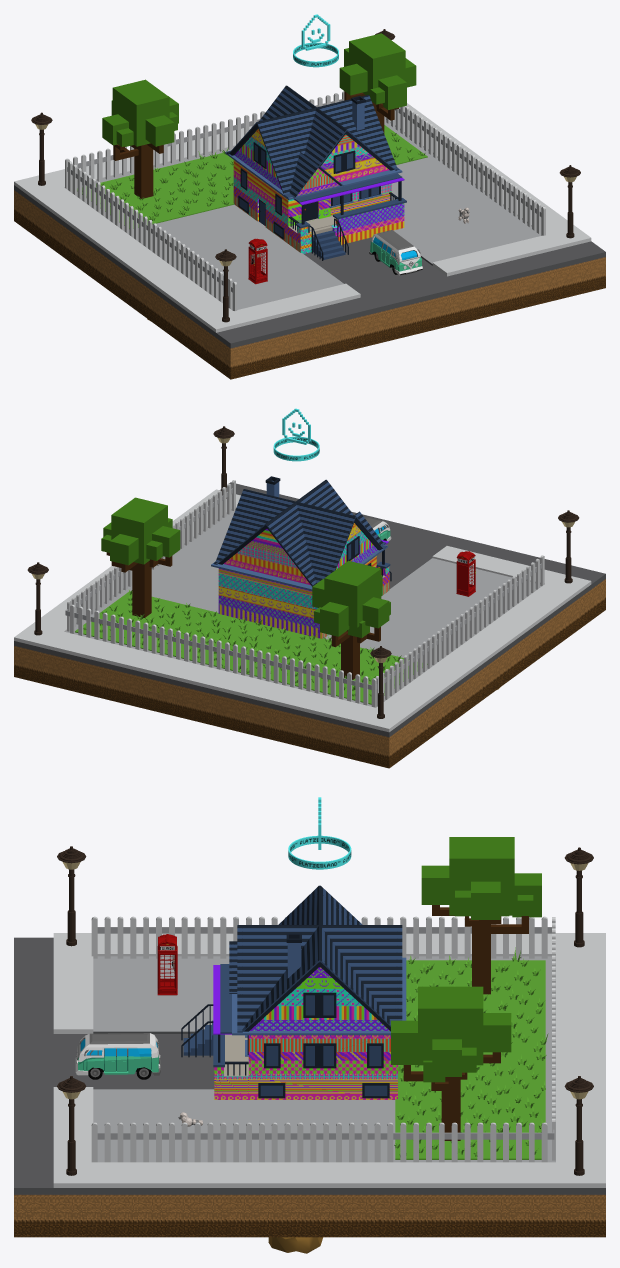
3 renders of one model, top to bottom at view 1: azimuth 30°, elevation 25°; view 2: azimuth 150°, elevation 25°; view 3: azimuth 270°, elevation 25°, orthographic. The views are drawn at different scales.
Parts seen in each view (by area): view 1: Cube.004, Cube.676, VEHICLES_VAN, TYPE_PREMIUM, OBJRANDOM_PHONEBOOTH; view 2: Cube.004, Cube.676, TYPE_PREMIUM, OBJRANDOM_PHONEBOOTH; view 3: Cube.004, Cube.676, VEHICLES_VAN, TYPE_PREMIUM, OBJRANDOM_PHONEBOOTH, UNDERGROUND_T_REX_BONES.
Boxes of the visible parts, box(x1,y1,x2,y2) form: Cube.004: box(14, 29, 605, 379); Cube.676: box(225, 85, 406, 260); VEHICLES_VAN: box(369, 230, 422, 275); TYPE_PREMIUM: box(293, 14, 338, 67); OBJRANDOM_PHONEBOOTH: box(248, 238, 267, 284); Cube.004: box(14, 426, 605, 768); Cube.676: box(211, 476, 391, 638); TYPE_PREMIUM: box(273, 408, 319, 461); OBJRANDOM_PHONEBOOTH: box(456, 551, 475, 596); Cube.004: box(14, 837, 605, 1237); Cube.676: box(181, 885, 406, 1099); VEHICLES_VAN: box(75, 1033, 160, 1079); TYPE_PREMIUM: box(288, 797, 351, 869); OBJRANDOM_PHONEBOOTH: box(157, 934, 177, 995); UNDERGROUND_T_REX_BONES: box(268, 1237, 322, 1253).
Size of the model in its own units: 4000 by 2580 by 4000.
Materials: 45 (8 with a texture image).
